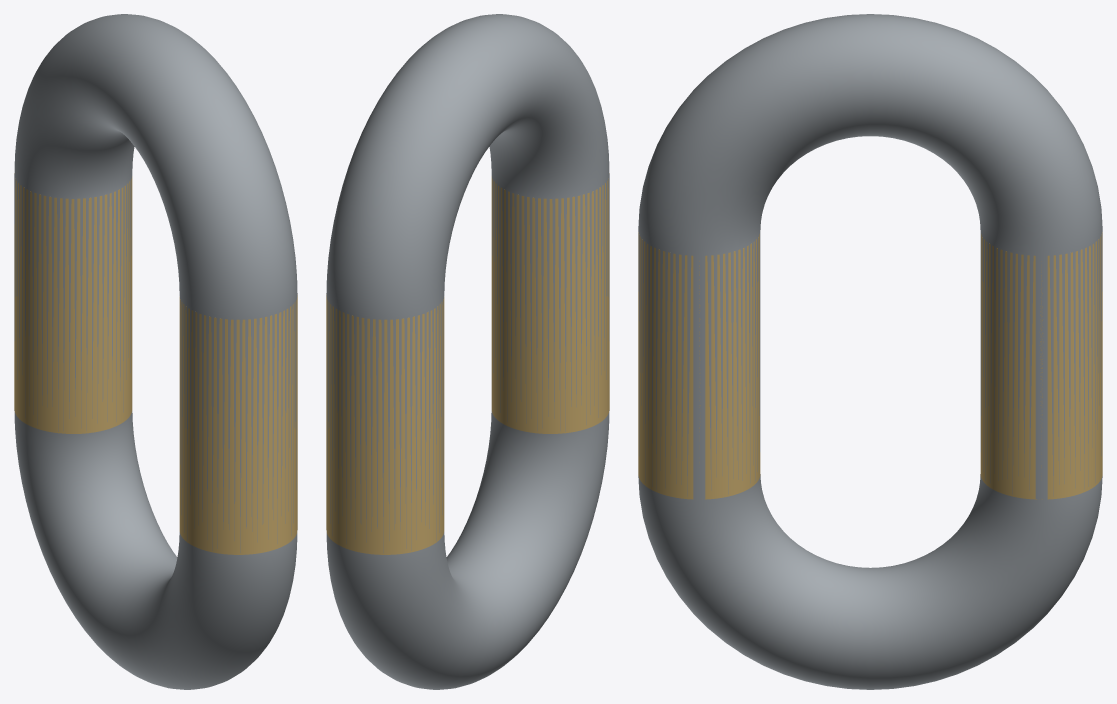
The model's file is step_02.glb.
3 renders of one model, left to right at view 1: azimuth 30°, elevation 25°; view 2: azimuth 150°, elevation 25°; view 3: azimuth 270°, elevation 25°, orthographic. The views are drawn at different scales.
Visible parts, largest first — view 1: part__chain link 10 mm, added__chain link 10 mm; view 2: part__chain link 10 mm, added__chain link 10 mm; view 3: part__chain link 10 mm, added__chain link 10 mm.
Part boxes in pixels (bbox=[...]): part__chain link 10 mm: bbox=[14, 14, 297, 689]; added__chain link 10 mm: bbox=[14, 173, 297, 554]; part__chain link 10 mm: bbox=[326, 14, 609, 689]; added__chain link 10 mm: bbox=[326, 173, 609, 554]; part__chain link 10 mm: bbox=[638, 14, 1102, 689]; added__chain link 10 mm: bbox=[638, 232, 1102, 499].
Bounding box in the file's own units: 10 × 60 × 38.
